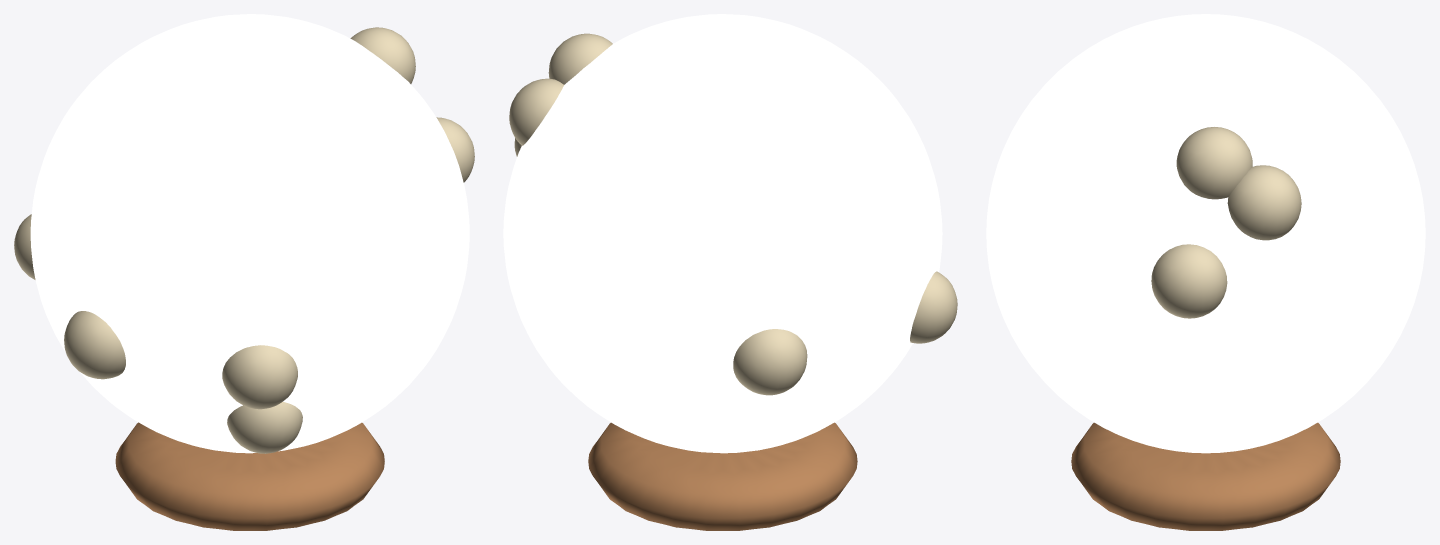
File: deco_lampara_luna.glb
3 renders of one model, left to right at view 1: azimuth 30°, elevation 25°; view 2: azimuth 150°, elevation 25°; view 3: azimuth 270°, elevation 25°, orthographic.
Visible parts, largest first — view 1: luna.001, base luna.001, cráter 3.001, cráter 0.001, cráter 4.001, cráter 6.001, cráter 2.001, cráter 1.001; view 2: luna.001, base luna.001, cráter 1.001, cráter 0.001, cráter 5.001, cráter 6.001; view 3: luna.001, base luna.001, cráter 2.001, cráter 5.001, cráter 6.001.
Boxes of the visible parts, bbox=[...] form: luna.001: bbox=[30, 14, 469, 453]; base luna.001: bbox=[115, 422, 384, 530]; cráter 3.001: bbox=[222, 345, 297, 409]; cráter 0.001: bbox=[64, 311, 125, 379]; cráter 4.001: bbox=[227, 402, 302, 453]; cráter 6.001: bbox=[350, 27, 415, 83]; cráter 2.001: bbox=[436, 117, 474, 182]; cráter 1.001: bbox=[14, 214, 35, 279]; luna.001: bbox=[503, 14, 942, 453]; base luna.001: bbox=[588, 422, 857, 530]; cráter 1.001: bbox=[733, 329, 807, 395]; cráter 0.001: bbox=[910, 271, 957, 343]; cráter 5.001: bbox=[509, 78, 563, 145]; cráter 6.001: bbox=[548, 33, 612, 84]; luna.001: bbox=[986, 14, 1425, 453]; base luna.001: bbox=[1071, 422, 1340, 530]; cráter 2.001: bbox=[1151, 244, 1227, 318]; cráter 5.001: bbox=[1227, 165, 1301, 240]; cráter 6.001: bbox=[1176, 127, 1252, 199].
Size of the model in its own units: 0.2394 by 0.2493 by 0.2185.
